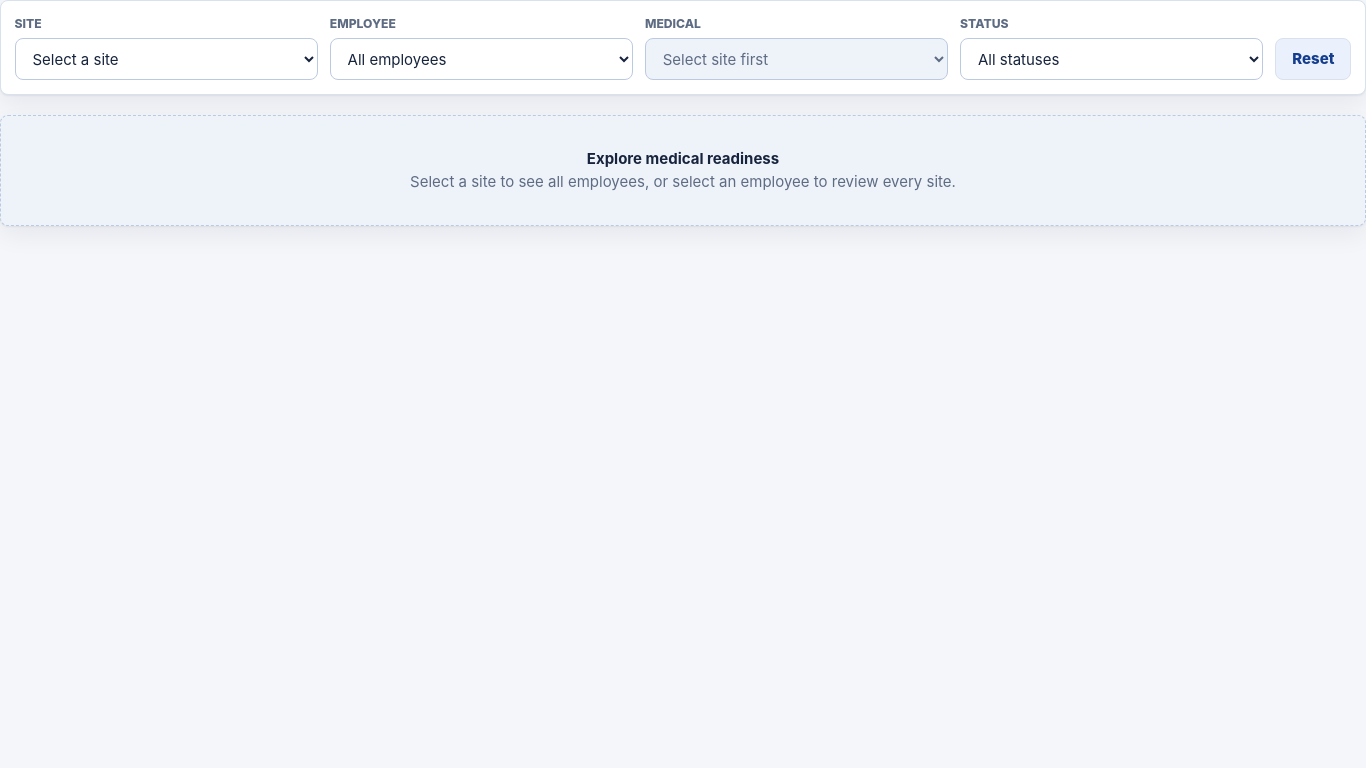
Test case: Medical › shows a cross-domain expiring warning when Medical has no requirements
This screenshot has width=1366, height=768.
Step 1. Select "North Ridge" in the dropdown named "Site" → point(166, 59), box x1=15 y1=38 x2=318 y2=80
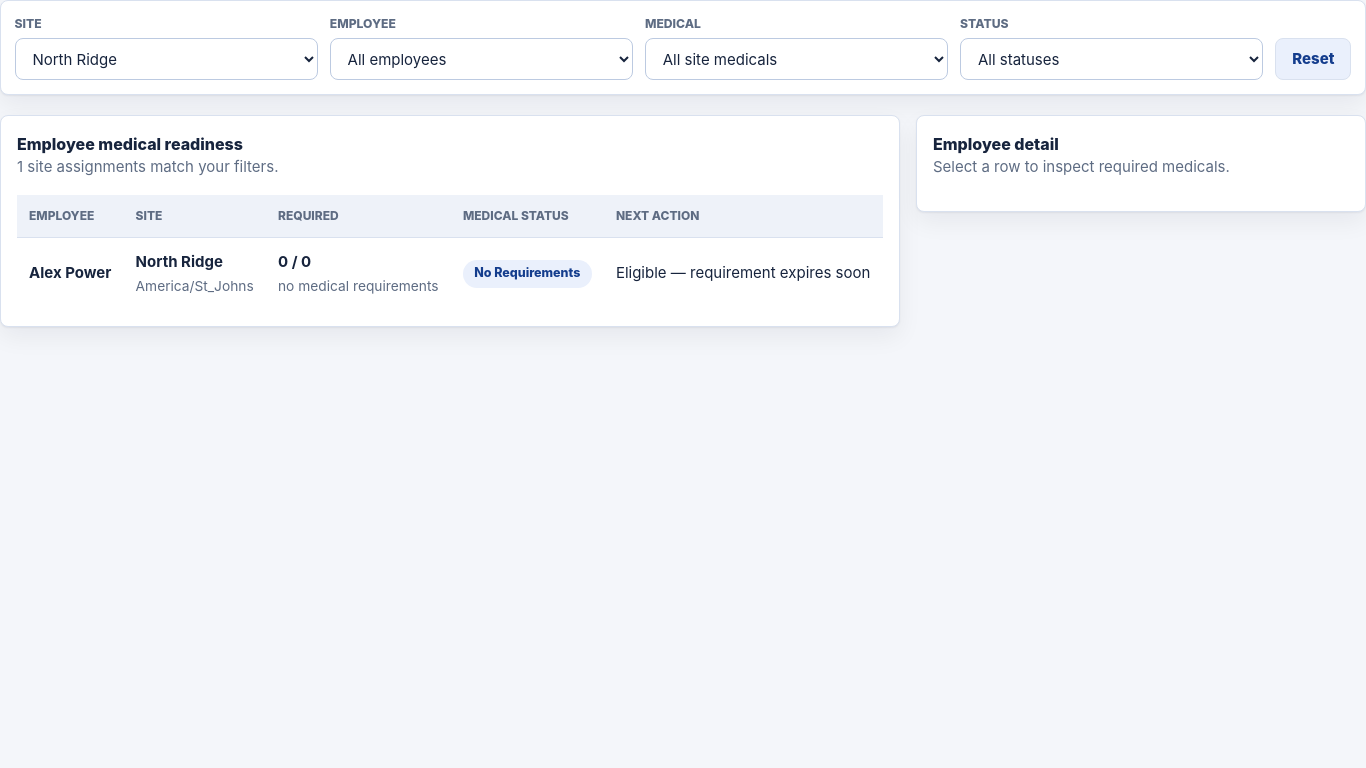
Check: the table shows "requirement expires soon", box x1=616 y1=263 x2=870 y2=282
Step 2. Click the row that starts with "Alex Power" → point(70, 273), box x1=17 y1=237 x2=883 y2=310
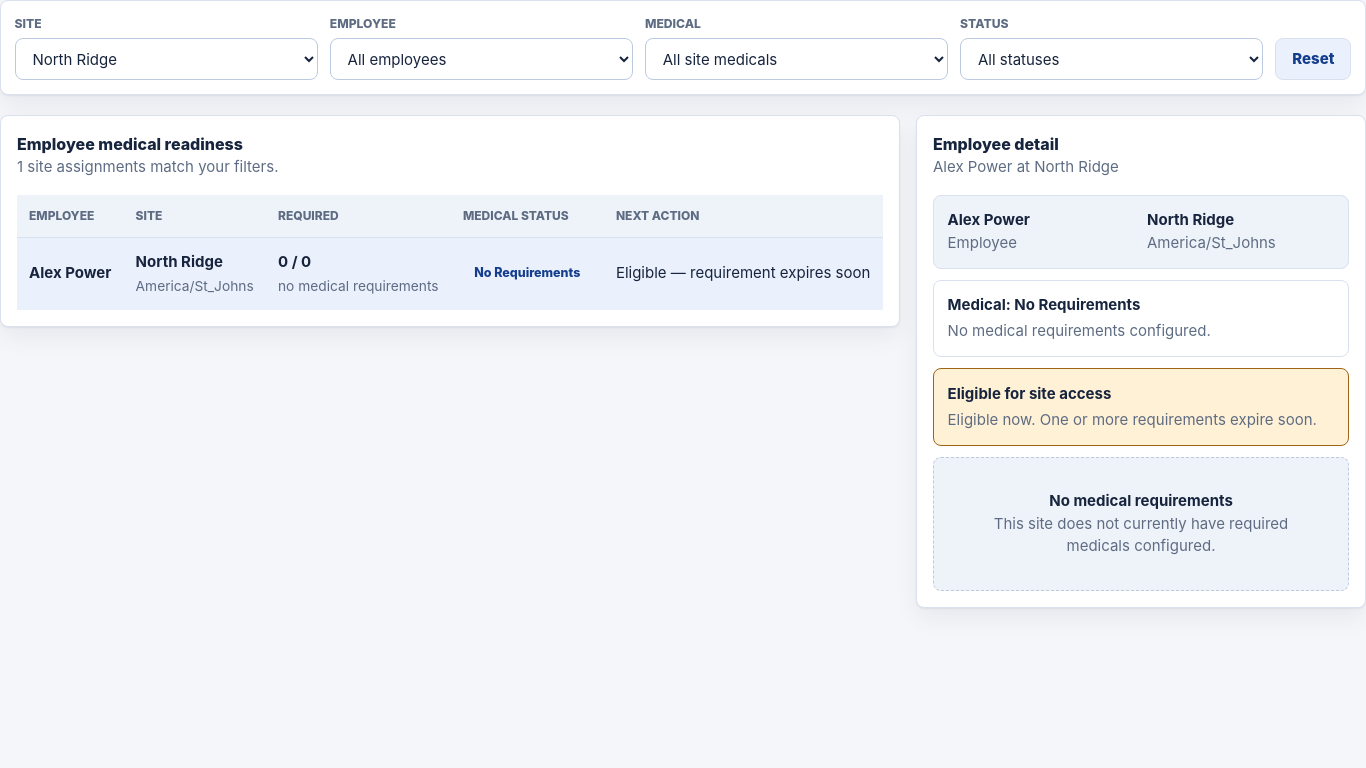
Check: the element that starts with "Eligible for site access" shows "One or more requirements expire soon.", box x1=948 y1=410 x2=1317 y2=429
